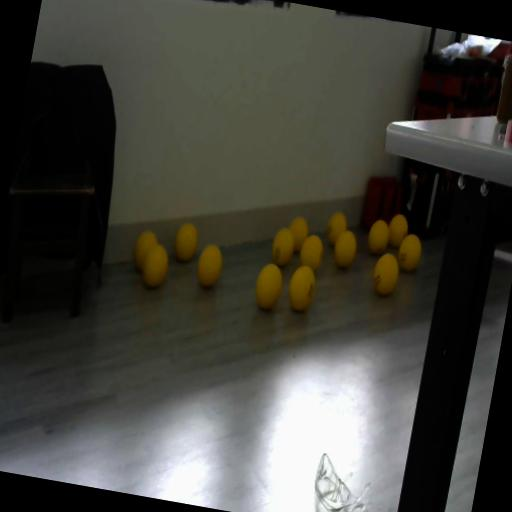FUEL: (250, 258, 286, 312), (284, 261, 318, 314), (192, 240, 226, 290), (369, 250, 401, 298), (130, 226, 159, 274), (170, 220, 200, 264), (394, 231, 424, 273), (296, 232, 326, 273), (330, 228, 359, 270), (284, 213, 311, 254), (365, 216, 392, 256), (384, 210, 410, 250)
